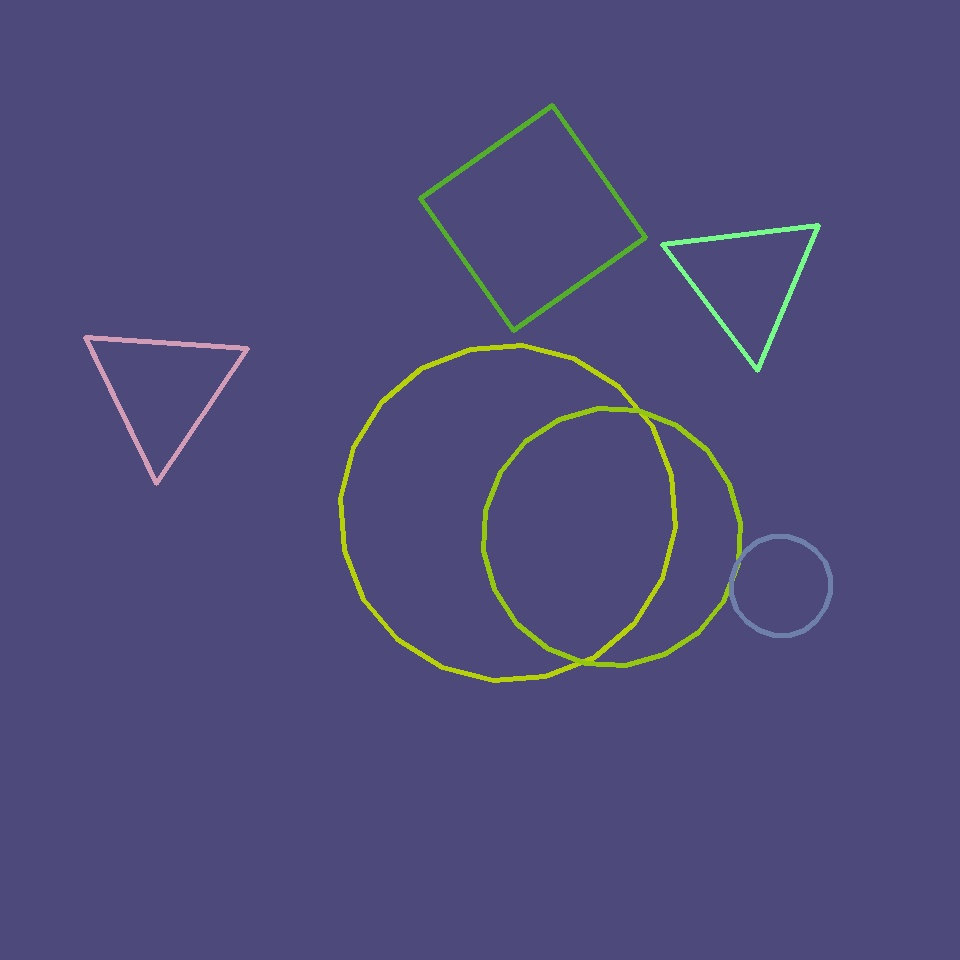circle: (82, 317, 244, 463), (668, 208, 824, 352)
square: (420, 106, 646, 330)
triangle: (341, 346, 676, 680), (484, 408, 740, 665), (732, 537, 830, 636)
